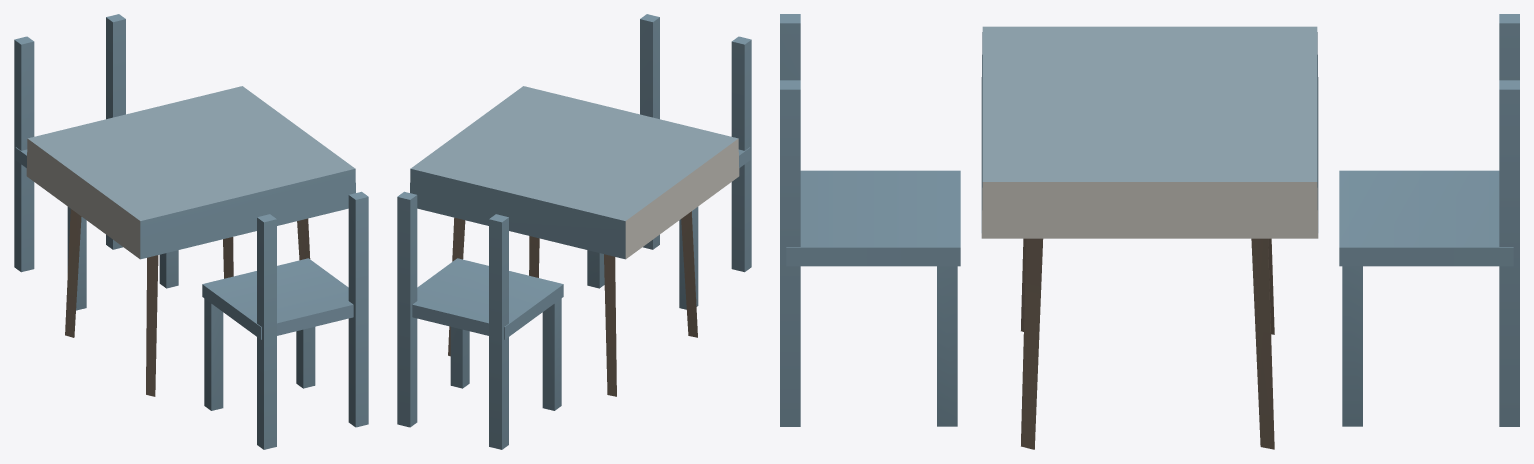
Rendered from taverna.lod2.glb.
The picture shows the model from 3 angles, left to right: view 1: azimuth 30°, elevation 25°; view 2: azimuth 150°, elevation 25°; view 3: azimuth 270°, elevation 25°; orthographic projection. The views are drawn at different scales.
Size of the model in its own units: 0.8944 by 0.9011 by 1.79.
